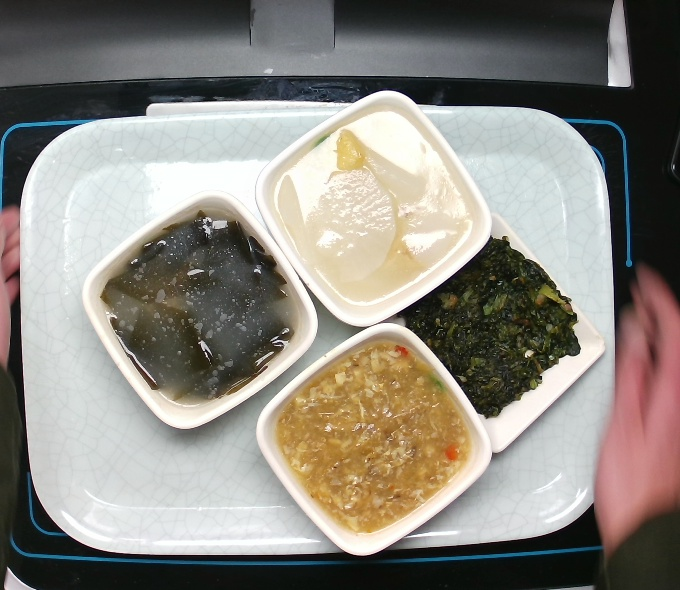wcq-HaiDaiPaiGuTang: (101, 212, 300, 400)
wcq-LuoBoYouPaoTang: (275, 109, 475, 309)
wcq-QinCaiBing: (397, 234, 584, 422)
wcq-SuanLaGeng: (273, 339, 474, 533)
